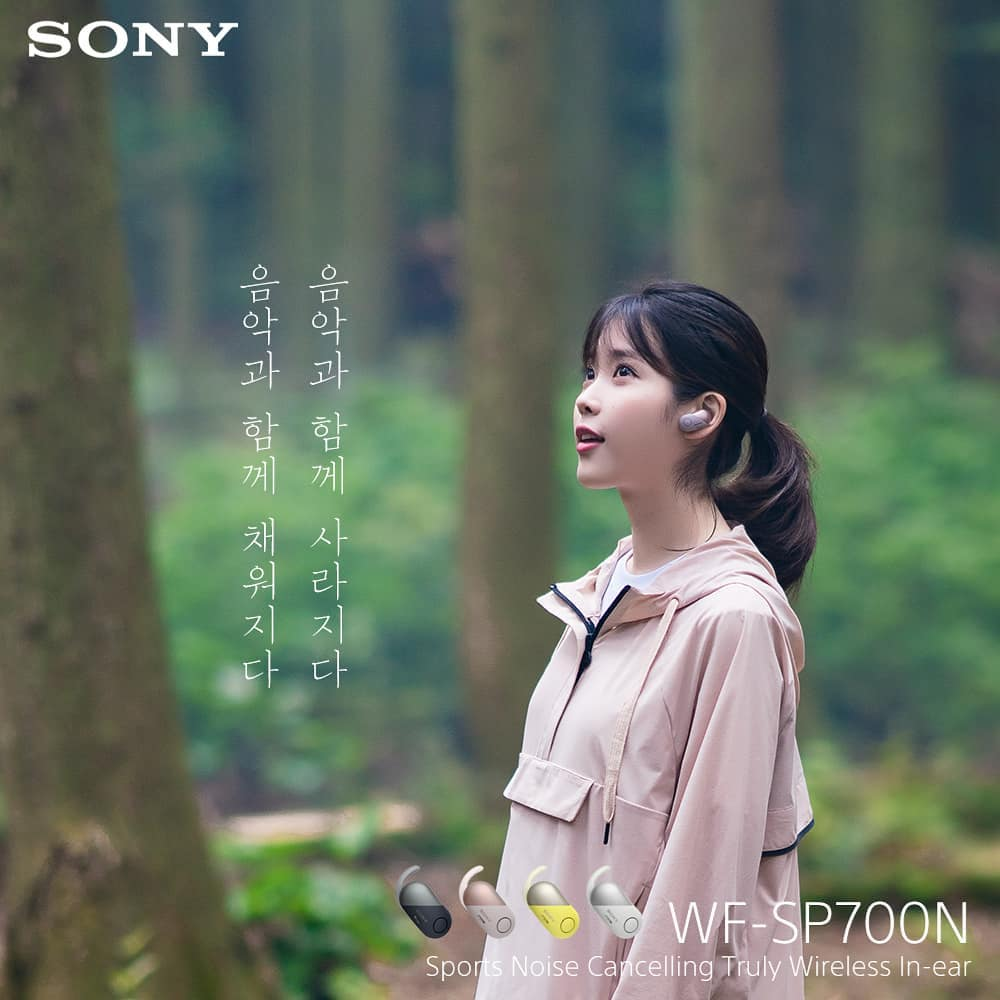earphone: (679, 391, 727, 440)
